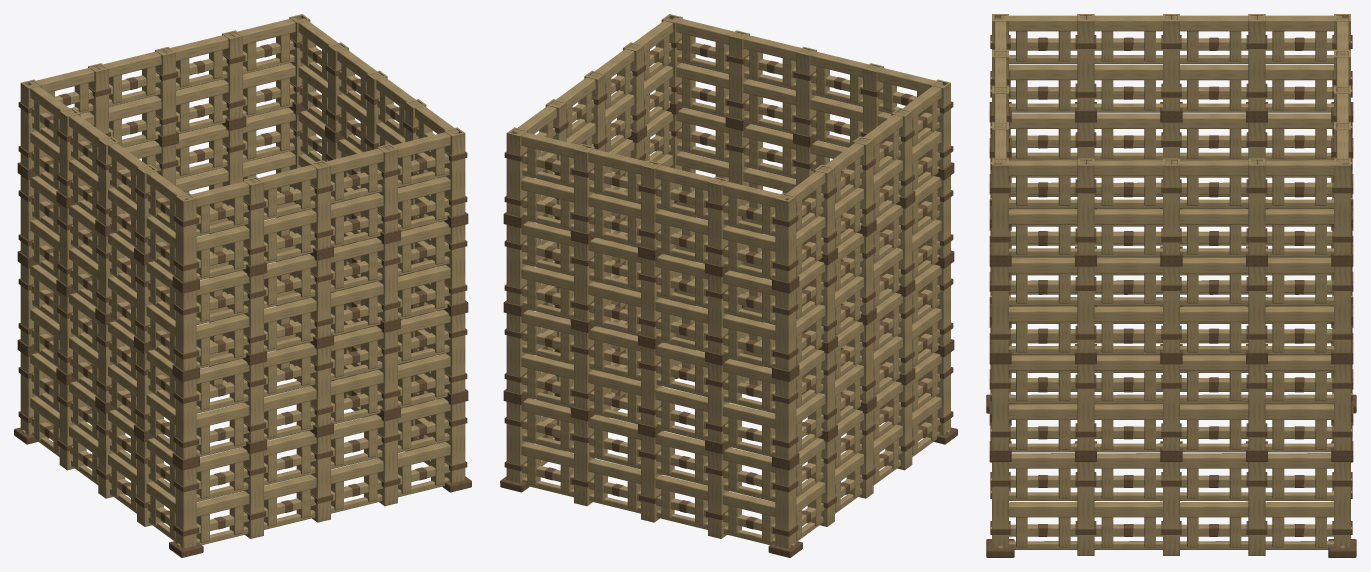
3 views of the same model, side by side, from view 1: azimuth 30°, elevation 25°; view 2: azimuth 150°, elevation 25°; view 3: azimuth 270°, elevation 25° (orthographic). The views are drawn at different scales.
Parts seen in each view (by area): view 1: Tier 3 side 0 post 0, Tier 0 side 0 post 0, Tier 2 side 0 post 0, Tier 1 side 0 post 0, Tier 3 side 1 post 0, Tier 3 side 0 post 3, Tier 3 side 0 post 1, Tier 0 side 0 post 1, Tier 0 side 0 post 2, Tier 3 side 2 post 2, Tier 0 side 0 post 3, Tier 3 side 0 post 2 (+82 smaller); view 2: Tier 3 side 3 post 0, Tier 0 side 3 post 0, Tier 1 side 3 post 0, Tier 2 side 3 post 0, Tier 3 side 2 post 0, Tier 3 side 2 post 3, Tier 0 side 2 post 3, Tier 0 side 2 post 2, Tier 3 side 2 post 1, Tier 3 side 0 post 2, Tier 3 side 2 post 2, Tier 0 side 2 post 1 (+82 smaller); view 3: Tier 3 side 1 post 1, Tier 3 side 1 post 3, Tier 3 side 3 post 1, Tier 3 side 3 post 3, Tier 0 side 1 post 1, Tier 0 side 1 post 3, Tier 3 side 1 post 2, Tier 3 side 2 post 0, Tier 3 side 1 post 0, Tier 3 side 3 post 2, Tier 0 side 1 post 2, Tier 1 side 1 post 1 (+138 smaller).
Part boxes in pixels (x1,y1,x2,y2): Tier 3 side 0 post 0: [175, 193, 196, 282]; Tier 0 side 0 post 0: [175, 466, 196, 548]; Tier 2 side 0 post 0: [175, 289, 196, 370]; Tier 1 side 0 post 0: [175, 377, 196, 459]; Tier 3 side 1 post 0: [444, 127, 465, 216]; Tier 3 side 0 post 3: [377, 144, 397, 233]; Tier 3 side 0 post 1: [243, 176, 263, 265]; Tier 0 side 0 post 1: [243, 451, 263, 538]; Tier 0 side 0 post 2: [310, 434, 330, 522]; Tier 3 side 2 post 2: [155, 47, 175, 136]; Tier 0 side 0 post 3: [377, 418, 397, 506]; Tier 3 side 0 post 2: [310, 160, 330, 249]; Tier 3 side 3 post 0: [775, 193, 796, 282]; Tier 0 side 3 post 0: [775, 466, 796, 548]; Tier 1 side 3 post 0: [775, 377, 796, 459]; Tier 2 side 3 post 0: [775, 289, 796, 370]; Tier 3 side 2 post 0: [506, 127, 527, 216]; Tier 3 side 2 post 3: [708, 176, 728, 265]; Tier 0 side 2 post 3: [708, 451, 728, 538]; Tier 0 side 2 post 2: [641, 434, 661, 522]; Tier 3 side 2 post 1: [574, 144, 594, 233]; Tier 3 side 0 post 2: [796, 46, 816, 136]; Tier 3 side 2 post 2: [641, 160, 661, 249]; Tier 0 side 2 post 1: [574, 418, 594, 506]; Tier 3 side 1 post 1: [1077, 158, 1094, 254]; Tier 3 side 1 post 3: [1248, 158, 1265, 254]; Tier 3 side 3 post 1: [1248, 14, 1265, 110]; Tier 3 side 3 post 3: [1077, 14, 1094, 110]; Tier 0 side 1 post 1: [1077, 462, 1094, 555]; Tier 0 side 1 post 3: [1248, 462, 1265, 555]; Tier 3 side 1 post 2: [1163, 158, 1179, 254]; Tier 3 side 2 post 0: [1334, 158, 1350, 254]; Tier 3 side 1 post 0: [992, 158, 1008, 254]; Tier 3 side 3 post 2: [1163, 14, 1179, 110]; Tier 0 side 1 post 2: [1163, 462, 1179, 555]; Tier 1 side 1 post 1: [1077, 364, 1094, 449].
Bounding box in the file's own units: 1.95 × 2.27 × 1.95.
Materials: 2 (2 with a texture image).
